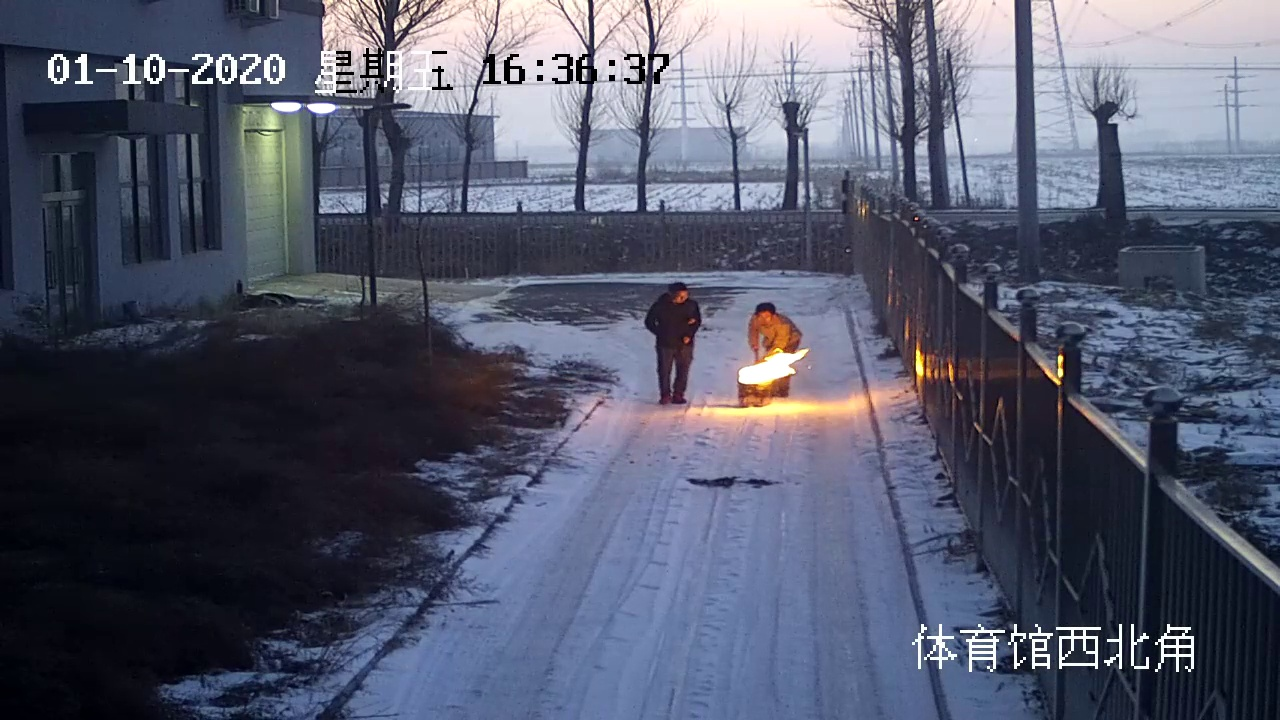fire: (731, 345, 805, 386)
